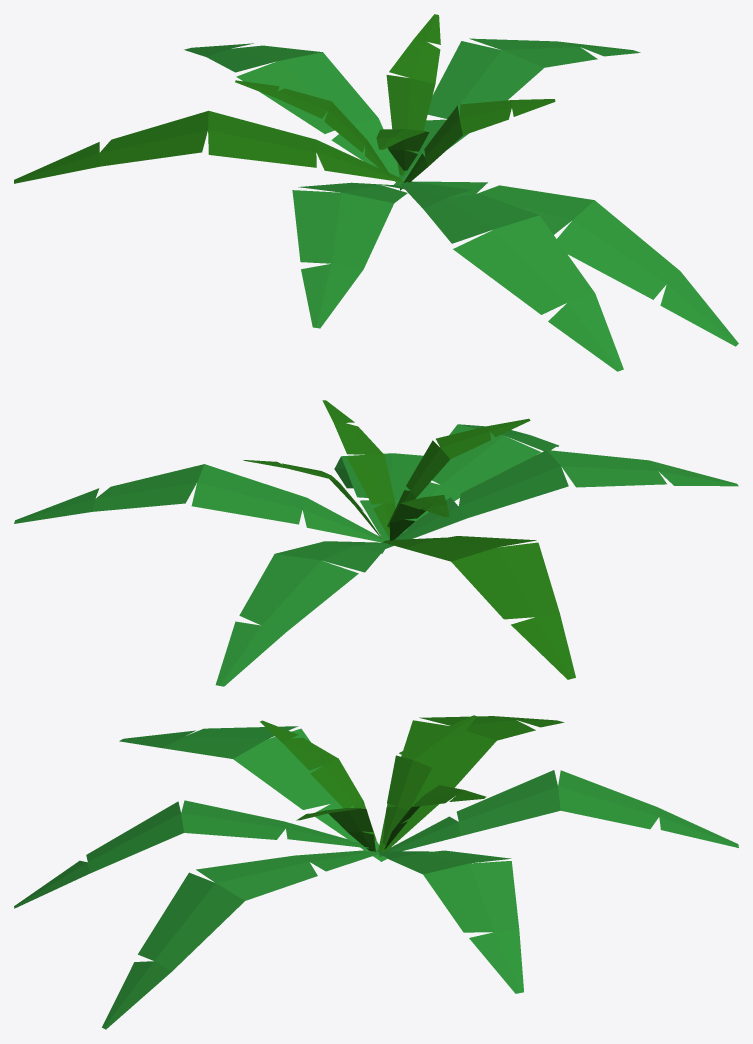
File: Palmenblätter.fbx
The picture shows the model from 3 angles, top to bottom: view 1: azimuth 30°, elevation 25°; view 2: azimuth 150°, elevation 25°; view 3: azimuth 270°, elevation 25°; orthographic projection. The views are drawn at different scales.
Parts seen in each view (by area): view 1: Plane.013; view 2: Plane.013; view 3: Plane.013.
Boxes of the visible parts, box(x1,y1,x2,y2) form: Plane.013: box(14, 14, 738, 371); Plane.013: box(14, 400, 738, 686); Plane.013: box(14, 715, 738, 1029).
Size of the model in its own units: 1104 by 355 by 1237.
